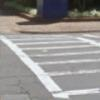crosswalks: (1, 33, 100, 100)
